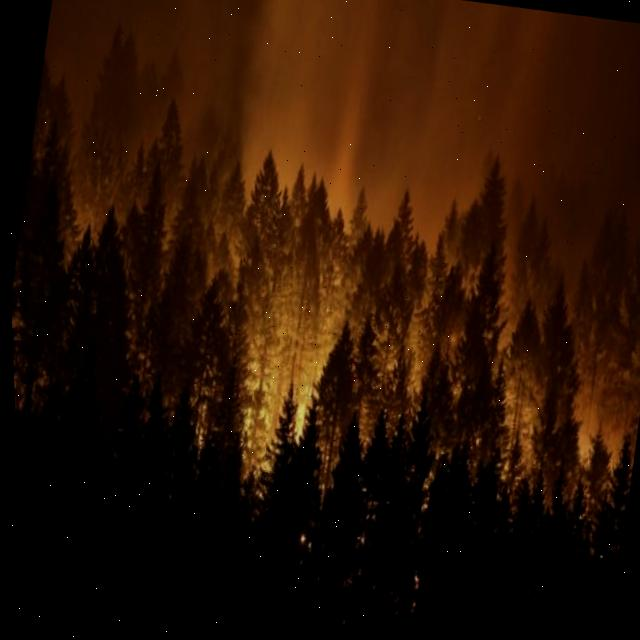fire: (8, 30, 640, 627)
smoke: (43, 0, 640, 293)
